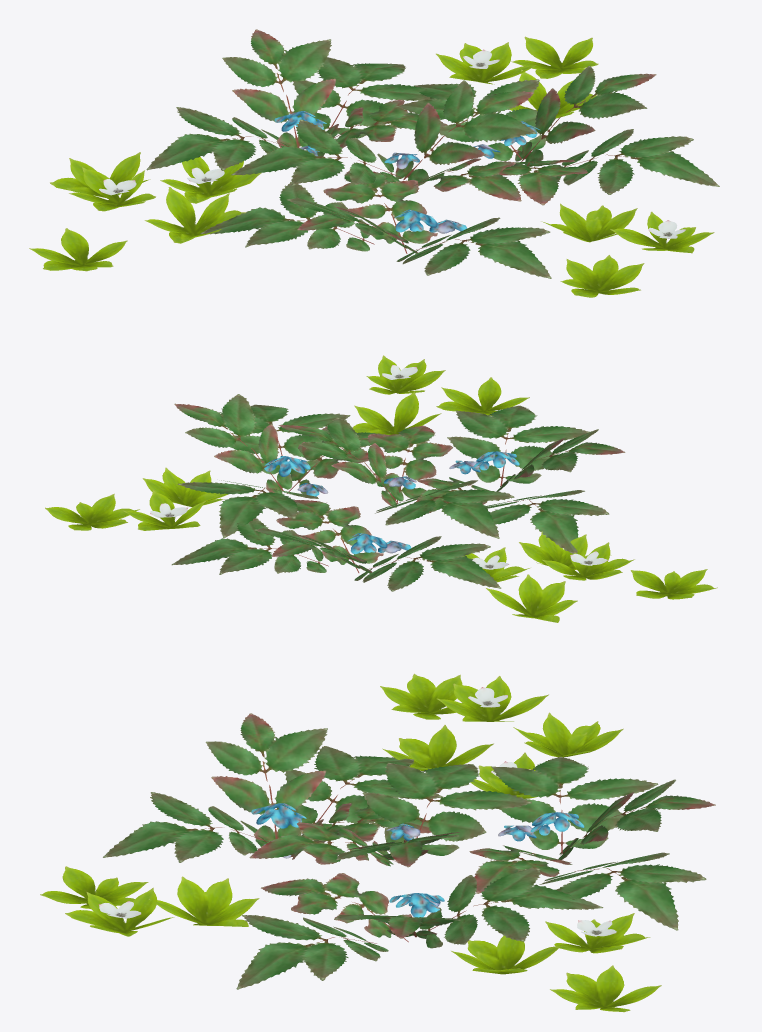
The model's file is Berries_WhiteFlower.fbx.
3 views of the same model, one above another, from view 1: azimuth 30°, elevation 25°; view 2: azimuth 150°, elevation 25°; view 3: azimuth 270°, elevation 25° (orthographic). The views are drawn at different scales.
Visible parts, largest first — view 1: Berries_WhiteFlower; view 2: Berries_WhiteFlower; view 3: Berries_WhiteFlower.
Part boxes in pixels (<box>): Berries_WhiteFlower: <box>29,29,719,297</box>; Berries_WhiteFlower: <box>45,355,717,622</box>; Berries_WhiteFlower: <box>40,673,715,1012</box>.
Bounding box in the file's own units: 130 × 113 × 15.23.
